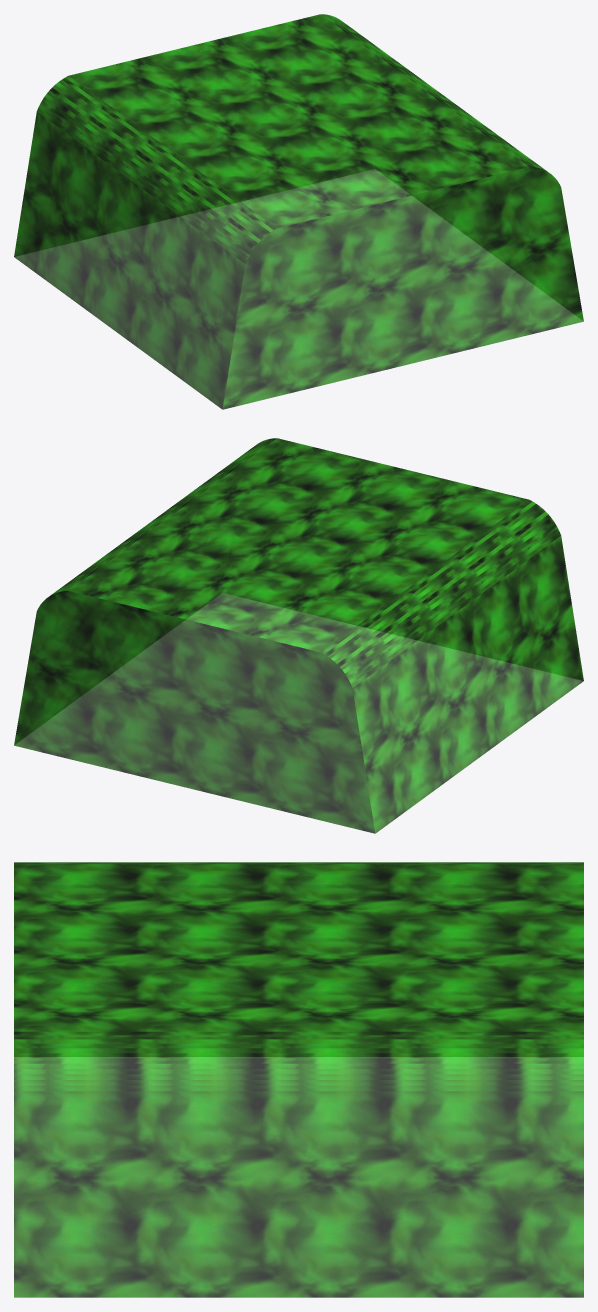
File: original-124.obj
The picture shows the model from 3 angles, top to bottom: view 1: azimuth 30°, elevation 25°; view 2: azimuth 150°, elevation 25°; view 3: azimuth 270°, elevation 25°; orthographic projection. The views are drawn at different scales.
Parts seen in each view (by area): view 1: Group_1_89/Group_1/mesh1/mesh1-geometry#mesh1-geometry; view 2: Group_1_89/Group_1/mesh1/mesh1-geometry#mesh1-geometry; view 3: Group_1_89/Group_1/mesh1/mesh1-geometry#mesh1-geometry.
Part boxes in pixels (<box>): Group_1_89/Group_1/mesh1/mesh1-geometry#mesh1-geometry: <box>14,14,583,409</box>; Group_1_89/Group_1/mesh1/mesh1-geometry#mesh1-geometry: <box>14,438,583,833</box>; Group_1_89/Group_1/mesh1/mesh1-geometry#mesh1-geometry: <box>14,862,583,1297</box>.
Bounding box in the file's own units: 0.0524 × 0.0233 × 0.0524.
